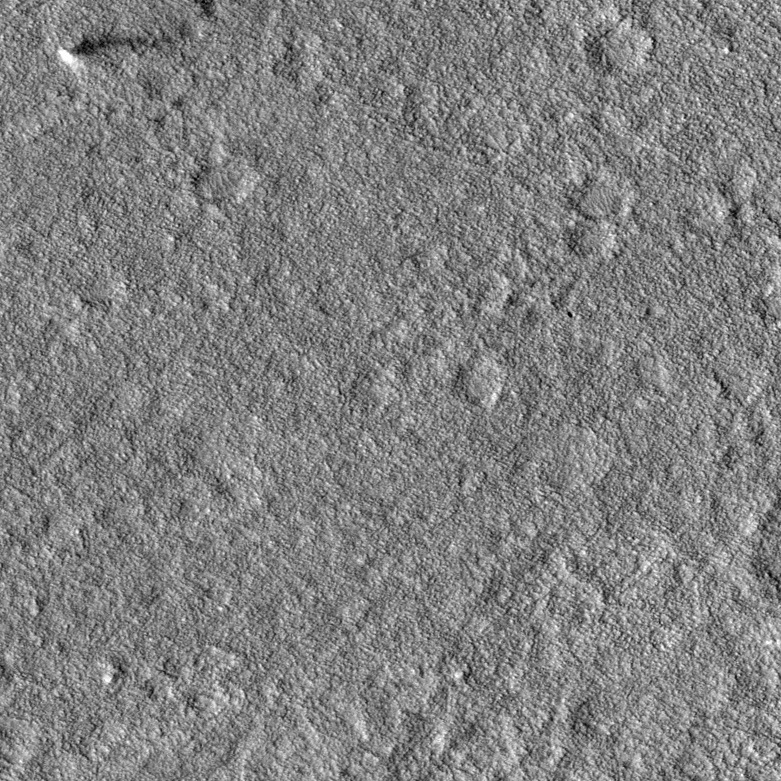dust_devil: (55, 29, 173, 74)
